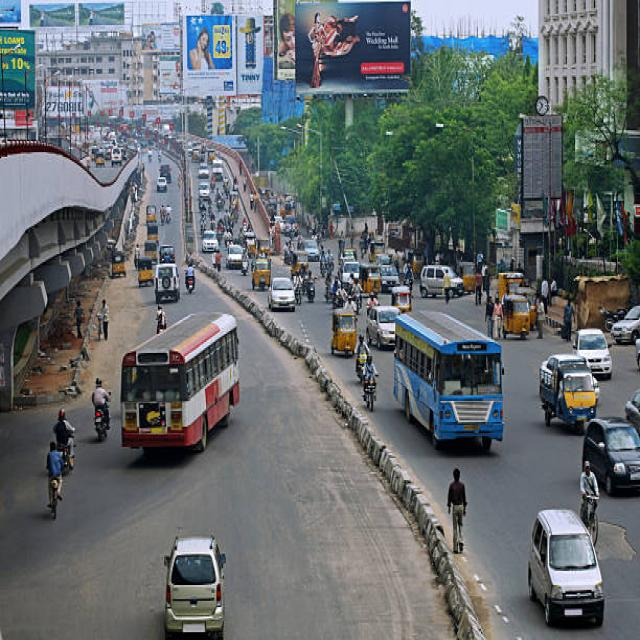Werbetafel frei: (295, 4, 410, 94), (183, 17, 237, 94), (1, 30, 36, 107), (77, 2, 126, 28), (28, 2, 75, 29), (141, 22, 181, 53), (158, 59, 180, 93), (1, 1, 22, 24)
